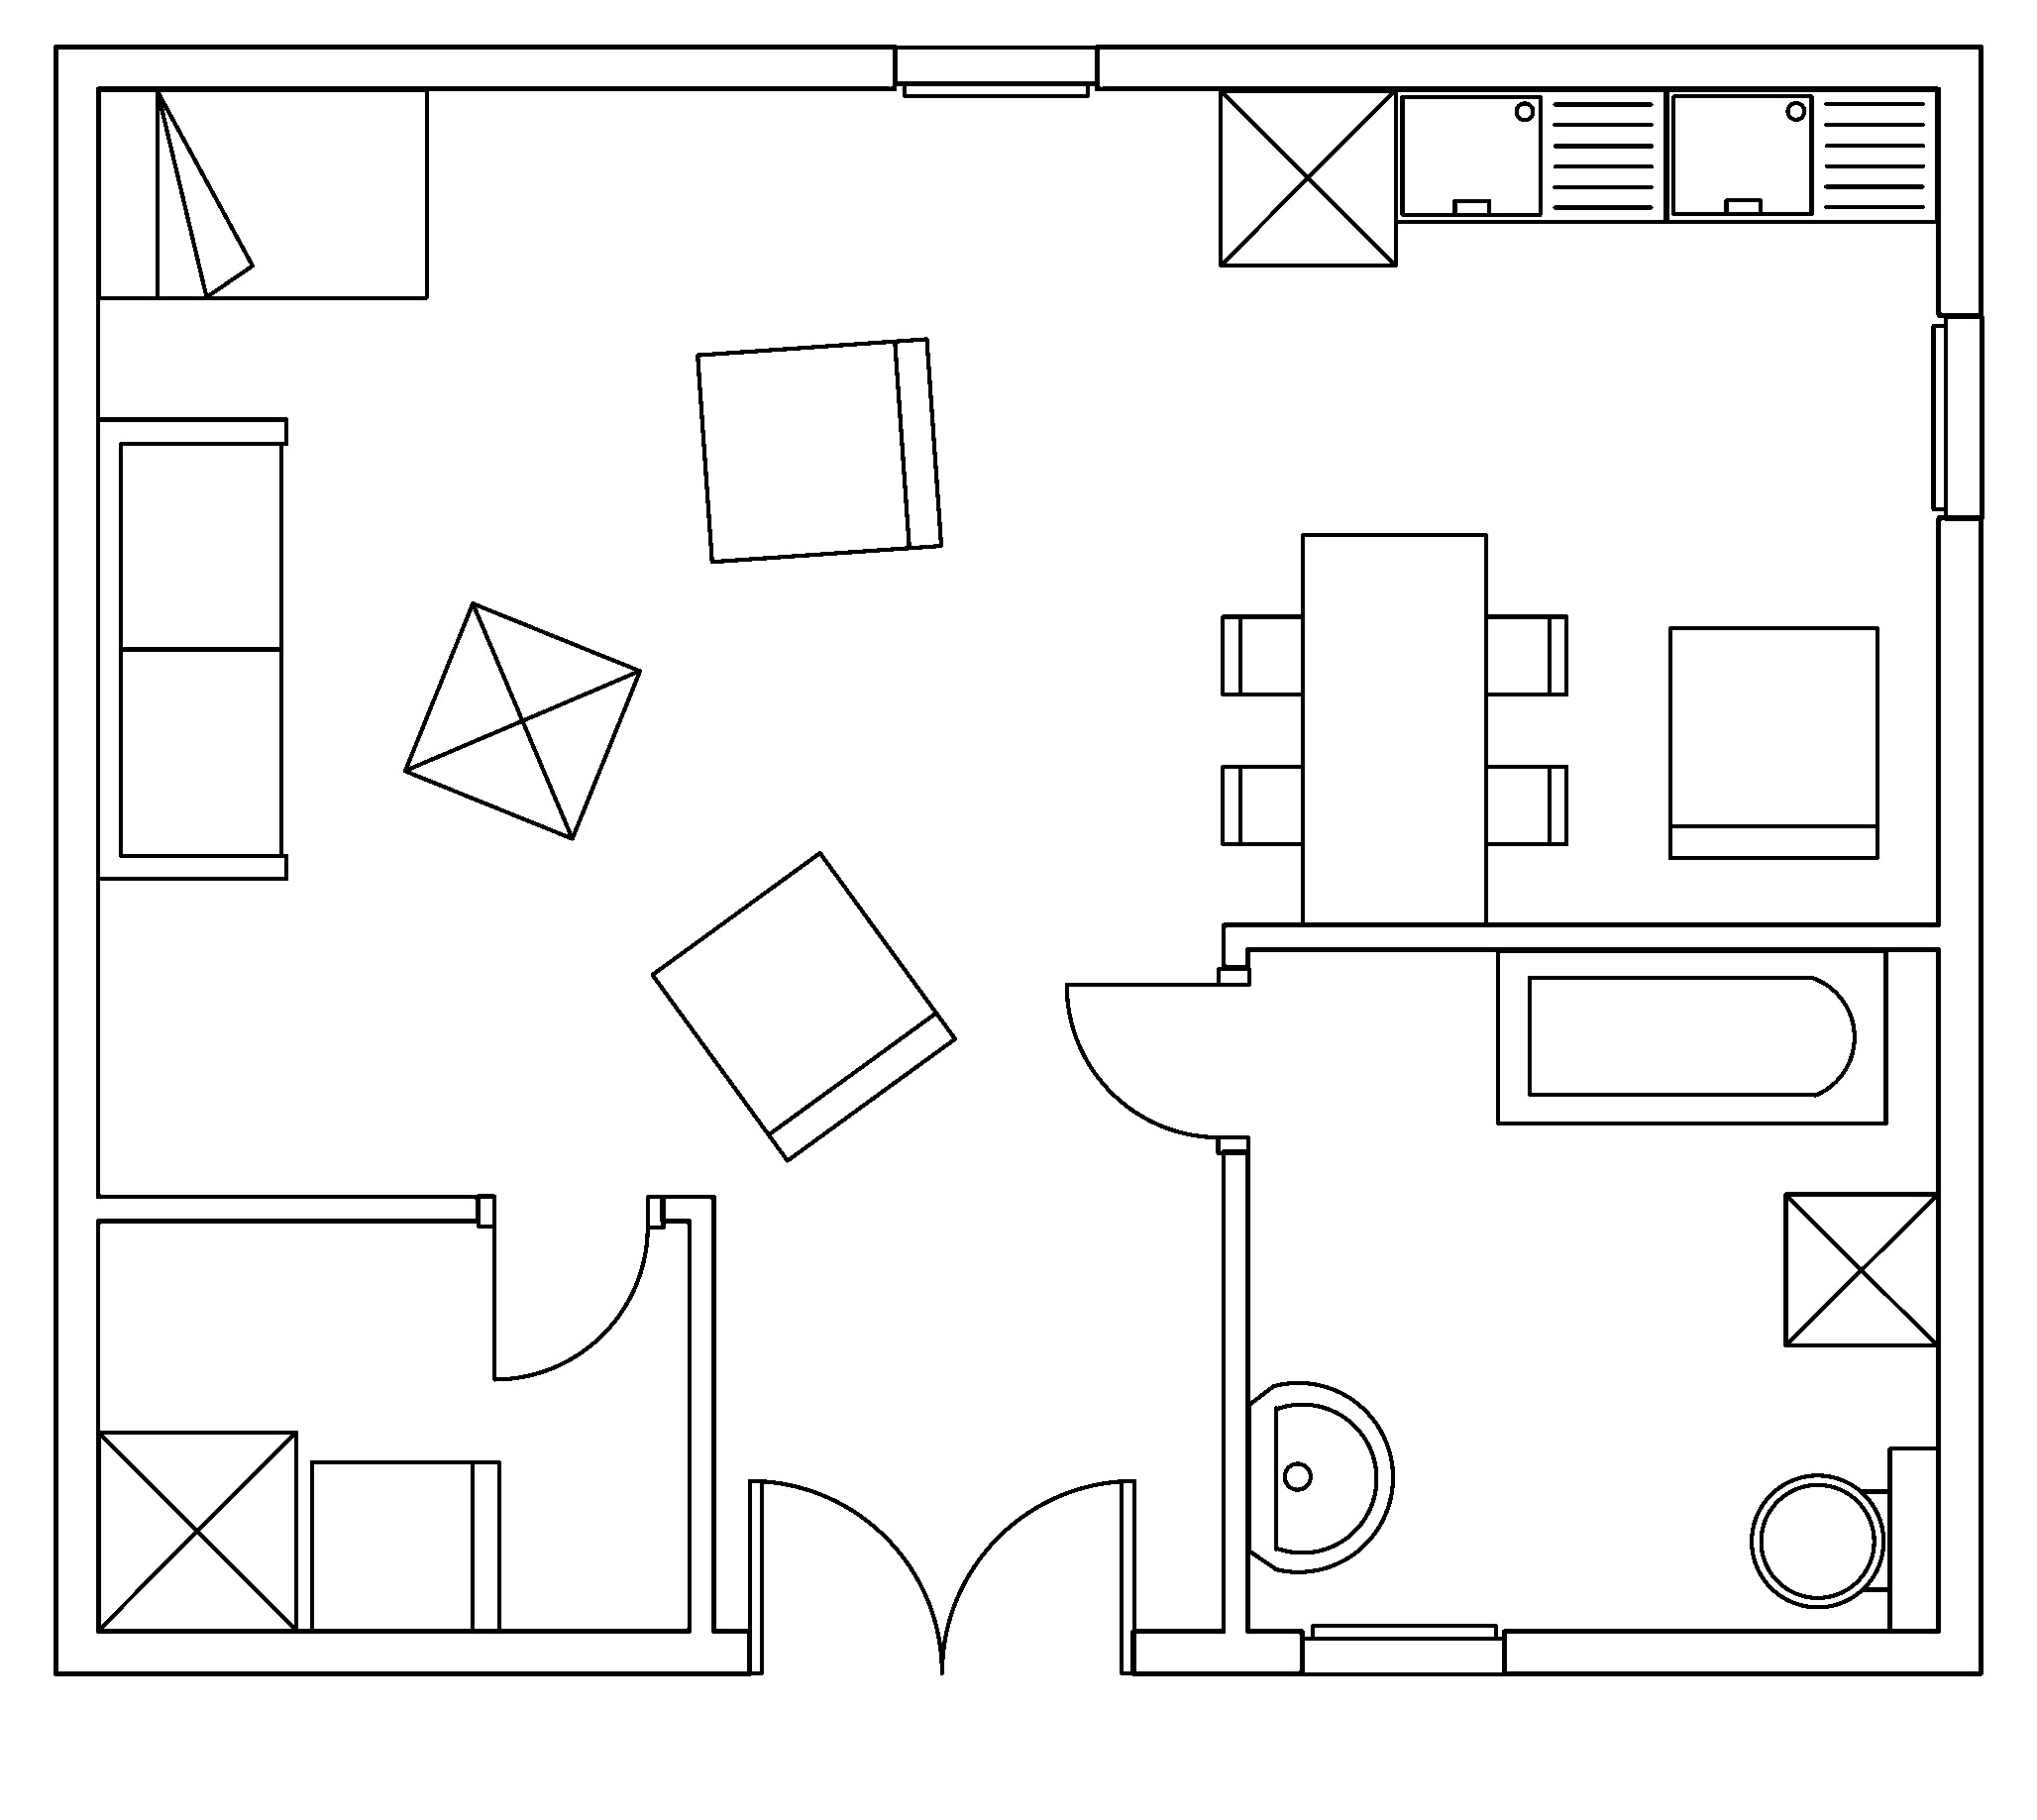bed: (95, 86, 428, 300)
coffee_table: (402, 599, 643, 841), (95, 1428, 299, 1632), (1217, 86, 1398, 267), (1781, 1189, 1940, 1349)
dining_table: (1219, 531, 1568, 926)
large_sink: (1749, 1444, 1940, 1632)
large_sofa: (95, 415, 288, 880)
sink: (1663, 86, 1940, 223), (1393, 86, 1668, 223)
small_sink: (1245, 1381, 1394, 1572)
small_sofa: (648, 849, 957, 1163), (694, 336, 943, 564), (1666, 624, 1879, 861), (307, 1458, 500, 1632)
tub: (1494, 947, 1888, 1126)
